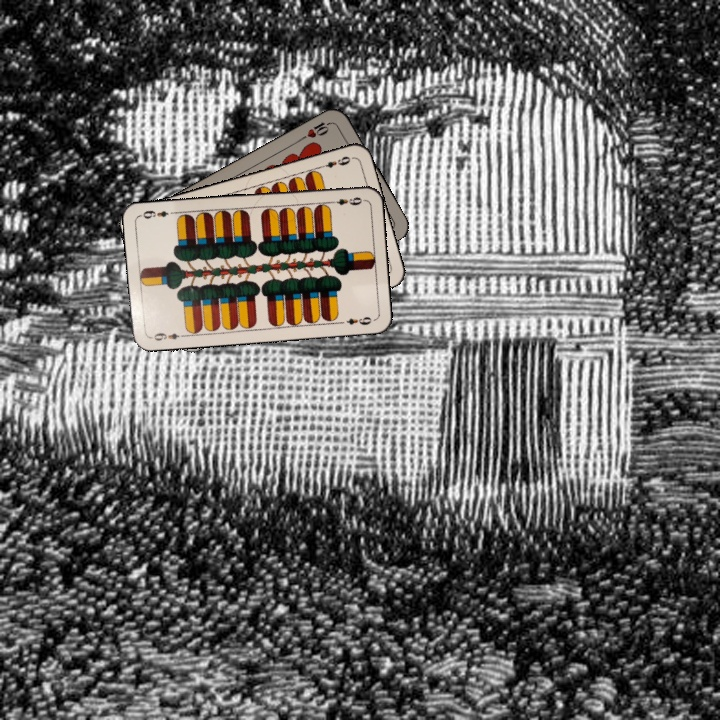E9: (315, 152, 353, 171), (326, 193, 366, 208), (147, 329, 187, 343)
H10: (297, 118, 335, 143)
